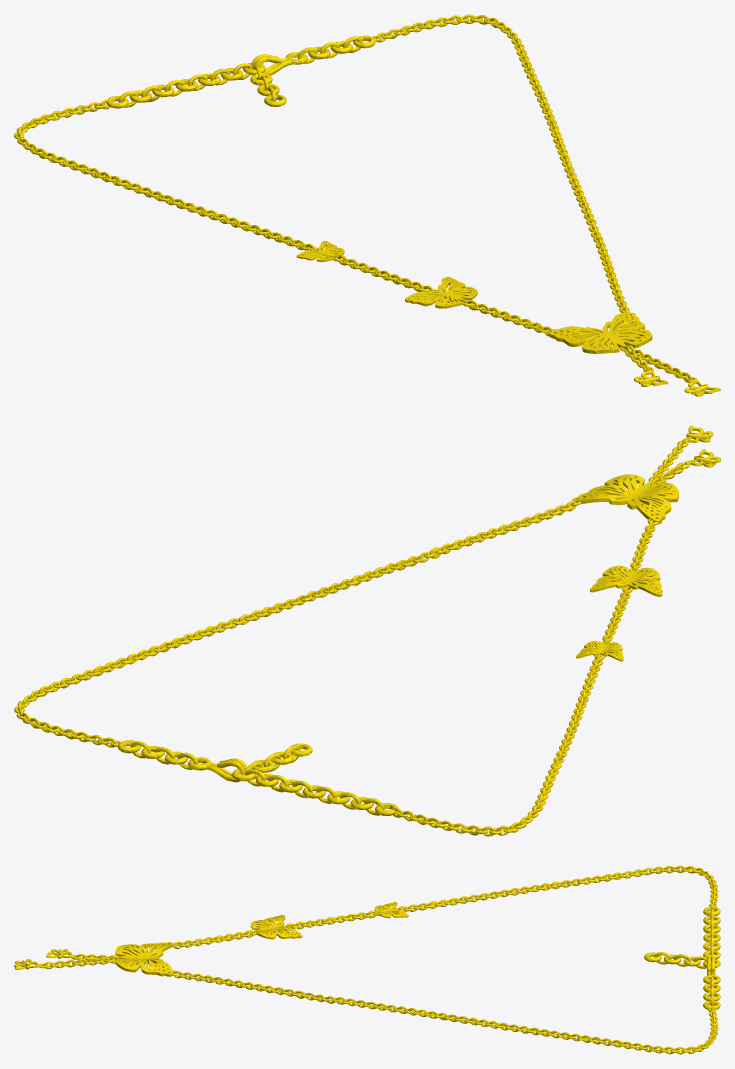
Rendered from GN-SAD0003027.glb.
3 renders of one model, top to bottom at view 1: azimuth 30°, elevation 25°; view 2: azimuth 150°, elevation 25°; view 3: azimuth 270°, elevation 25°, orthographic. The views are drawn at different scales.
Visible parts, largest first — view 1: highPolyMesh, lowPolyMesh; view 2: highPolyMesh, lowPolyMesh; view 3: highPolyMesh, lowPolyMesh.
Boxes of the visible parts, bbox=[...] form: highPolyMesh: bbox=[14, 14, 720, 396]; lowPolyMesh: bbox=[14, 15, 720, 396]; highPolyMesh: bbox=[14, 425, 720, 836]; lowPolyMesh: bbox=[14, 427, 720, 835]; highPolyMesh: bbox=[14, 865, 720, 1054]; lowPolyMesh: bbox=[14, 865, 720, 1054].
Bounding box in the file's own units: 0.0974 × 0.00388 × 0.1575.
